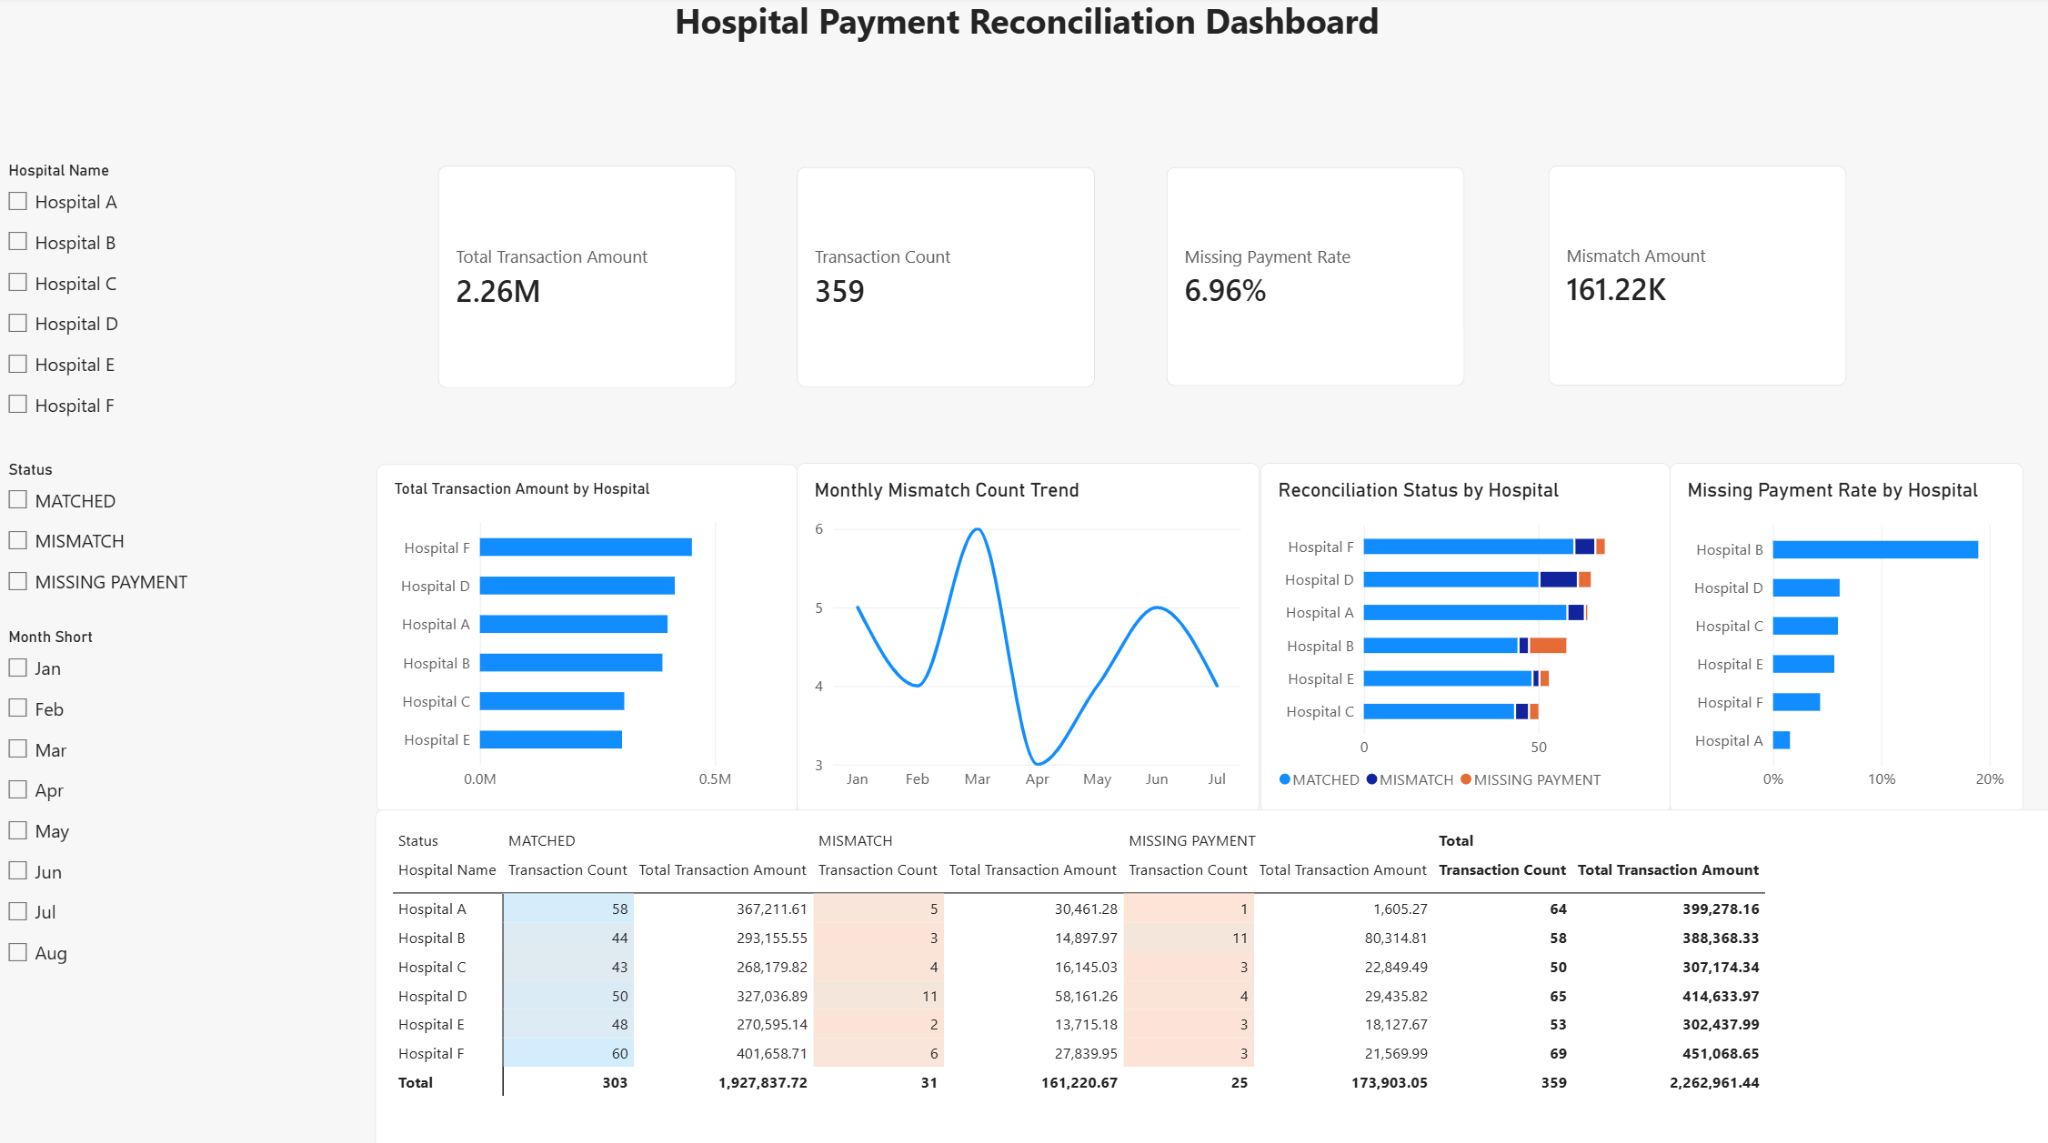

What the dashboard file says about the page in this screenshot:
{"tool":"powerbi","page":{"name":"第 1 页","canvas":[1920,1080],"ordinal":0},"visuals":[{"type":"cardVisual","fields":{"Data":["Transactions_Raw.Total Transaction Amount"]},"box":[408.8,158.4,279.1,208.2],"z":0},{"type":"cardVisual","fields":{"Data":["Transactions_Raw.Transaction Count"]},"box":[745.3,159.9,279.1,206.7],"z":1000},{"type":"cardVisual","fields":{"Data":["Transactions_Raw.Missing Payment Rate"]},"box":[1090.8,159.9,279.1,205.2],"z":2000},{"type":"cardVisual","fields":{"Data":["Transactions_Raw.Mismatch Amount"]},"box":[1448.3,158.4,279.1,206.7],"z":3000},{"type":"clusteredBarChart","title":"Total Transaction Amount by Hospital","fields":{"Category":["Hospitals.Hospital Name"],"Y":["Transactions_Raw.Total Transaction Amount"]},"box":[351.5,437.5,393.8,325.9],"z":4000},{"type":"lineChart","title":"Monthly Mismatch Count Trend","fields":{"Category":["Transactions_Raw.Month Short"],"Y":["Transactions_Raw.Mismatch Count"]},"box":[745.3,436,433,327.4],"z":5000},{"type":"barChart","title":"Reconciliation Status by Hospital","fields":{"Category":["Hospitals.Hospital Name"],"Series":["Transactions_Raw.Status"],"Y":["Transactions_Raw.Transaction Count"]},"box":[1178.3,436,383.2,327.4],"z":6000},{"type":"clusteredBarChart","title":"Missing Payment Rate by Hospital","fields":{"Category":["Hospitals.Hospital Name"],"Y":["Transactions_Raw.Missing Payment Rate"]},"box":[1561.5,436,330.4,327.4],"z":7000},{"type":"pivotTable","fields":{"Columns":["Transactions_Raw.Status"],"Rows":["Hospitals.Hospital Name"],"Values":["Transactions_Raw.Transaction Count","Transactions_Raw.Total Transaction Amount"]},"box":[351.2,759.9,1569.3,319.3],"z":8000},{"type":"slicer","fields":{"Values":["Hospitals.Hospital Name"]},"box":[0,154.9,280,280],"z":9000},{"type":"slicer","fields":{"Values":["Transactions_Raw.Status"]},"box":[0,434.2,280,280],"z":10000},{"type":"slicer","fields":{"Values":["Transactions_Raw.Month Short"]},"box":[0,590.6,279.4,488.6],"z":11000},{"type":"textbox","title":"Hospital Payment Reconciliation Dashboard","box":[0,0,1920.5,279.4],"z":11001}]}

Visuals, with their boxes in screenshot pixels (x1, y1, x2, y2), scaled from the page's 1920x1080 canvas onto the 2048x1143 screenshot:
cardVisual - Transactions_Raw.Total Transaction Amount: (left=436, top=168, right=734, bottom=388)
cardVisual - Transactions_Raw.Transaction Count: (left=795, top=169, right=1093, bottom=388)
cardVisual - Transactions_Raw.Missing Payment Rate: (left=1164, top=169, right=1461, bottom=386)
cardVisual - Transactions_Raw.Mismatch Amount: (left=1545, top=168, right=1843, bottom=386)
"Total Transaction Amount by Hospital" clusteredBarChart: (left=375, top=463, right=795, bottom=808)
"Monthly Mismatch Count Trend" lineChart: (left=795, top=461, right=1257, bottom=808)
"Reconciliation Status by Hospital" barChart: (left=1257, top=461, right=1666, bottom=808)
"Missing Payment Rate by Hospital" clusteredBarChart: (left=1666, top=461, right=2018, bottom=808)
pivotTable - Transactions_Raw.Status x Hospitals.Hospital Name: (left=375, top=804, right=2047, bottom=1142)
slicer - Hospitals.Hospital Name: (left=0, top=164, right=299, bottom=460)
slicer - Transactions_Raw.Status: (left=0, top=460, right=299, bottom=756)
slicer - Transactions_Raw.Month Short: (left=0, top=625, right=298, bottom=1142)
"Hospital Payment Reconciliation Dashboard" textbox: (left=0, top=0, right=2047, bottom=296)
